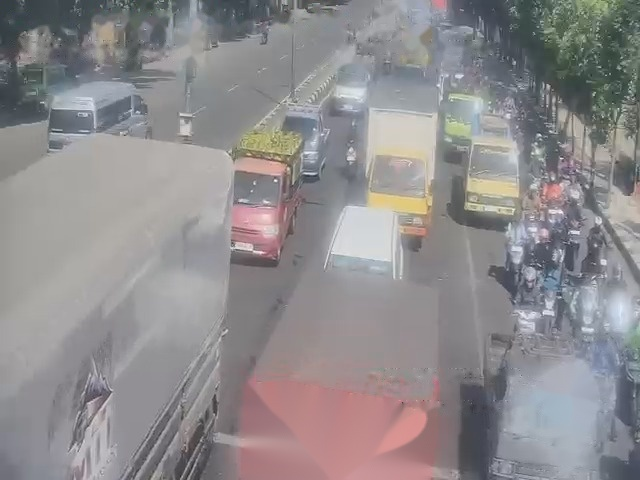Mobil: (473, 326, 616, 479), (229, 125, 303, 264), (324, 206, 403, 278), (280, 101, 322, 174), (334, 61, 370, 101)
Motor: (624, 349, 639, 445), (505, 244, 524, 289), (565, 224, 581, 269), (583, 313, 600, 355), (514, 310, 540, 333), (549, 197, 561, 229), (346, 146, 357, 178), (534, 146, 545, 175), (568, 185, 579, 201)
Truk: (0, 135, 233, 479), (228, 269, 456, 479), (367, 109, 437, 238), (466, 114, 518, 216), (441, 92, 482, 155)
